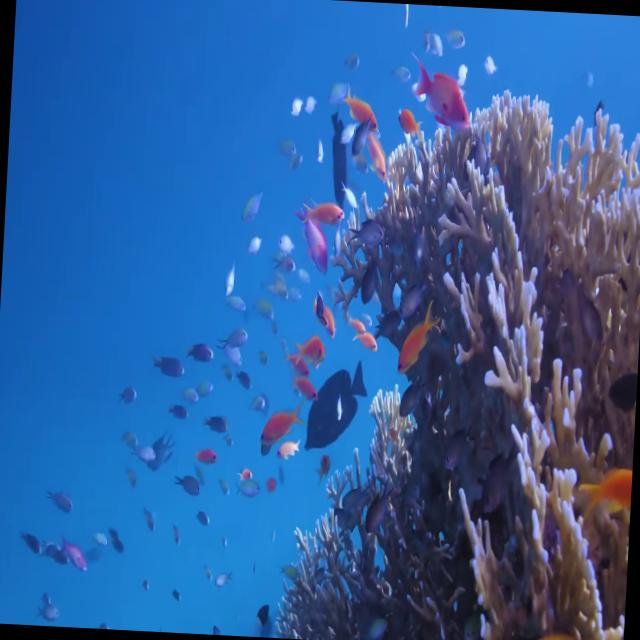fish: (303, 360, 365, 457), (410, 60, 474, 130), (398, 304, 442, 378), (258, 404, 300, 462), (364, 128, 390, 185), (343, 92, 379, 130), (151, 350, 188, 380), (170, 472, 202, 494)
